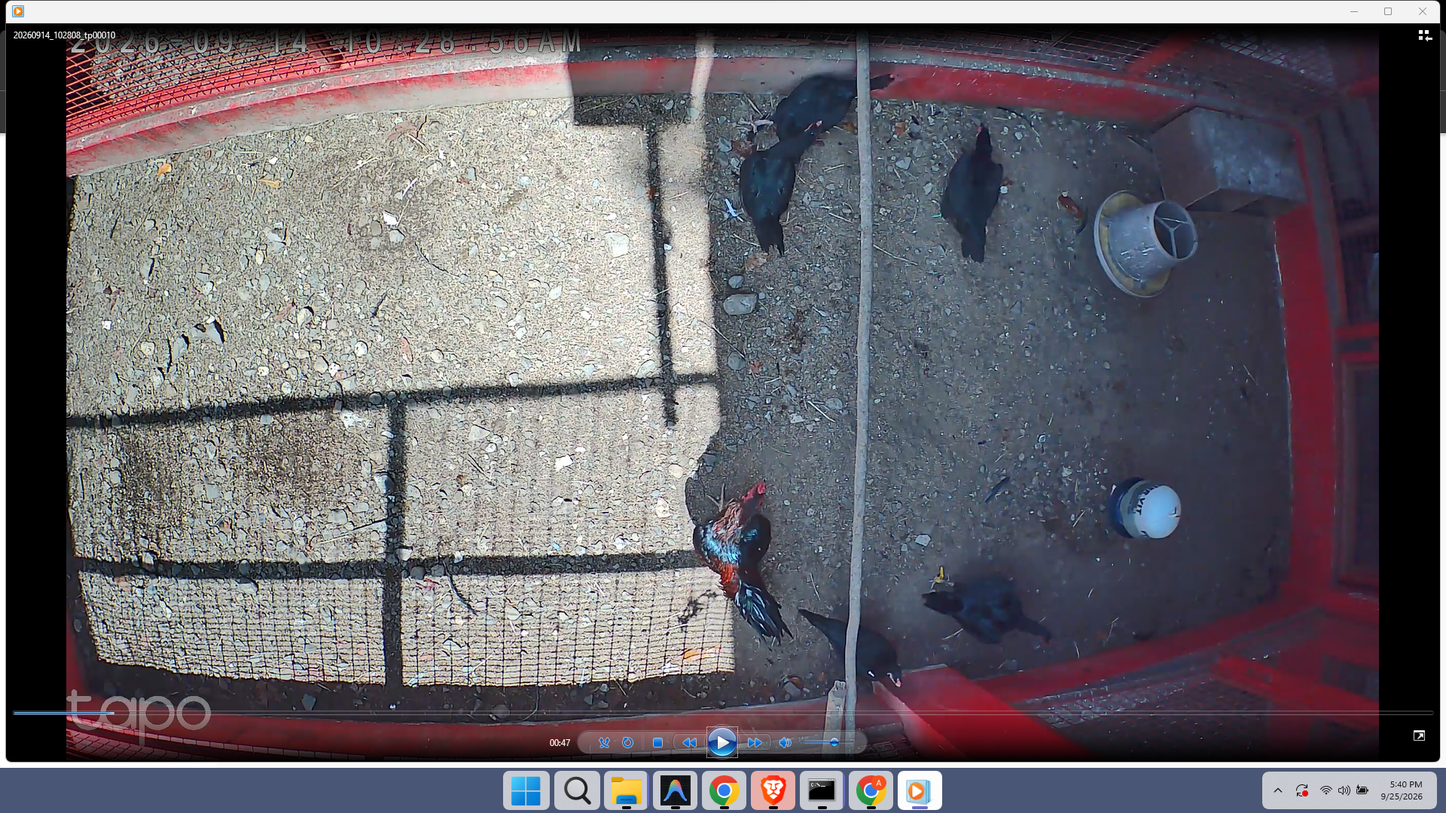Chicken: (721, 115, 825, 253), (921, 567, 1054, 649), (767, 69, 897, 147), (795, 606, 910, 691), (938, 119, 1004, 264)
Drinker: (1109, 476, 1184, 542)
Feeder: (1092, 187, 1198, 298)
Rooster: (691, 474, 802, 651)
